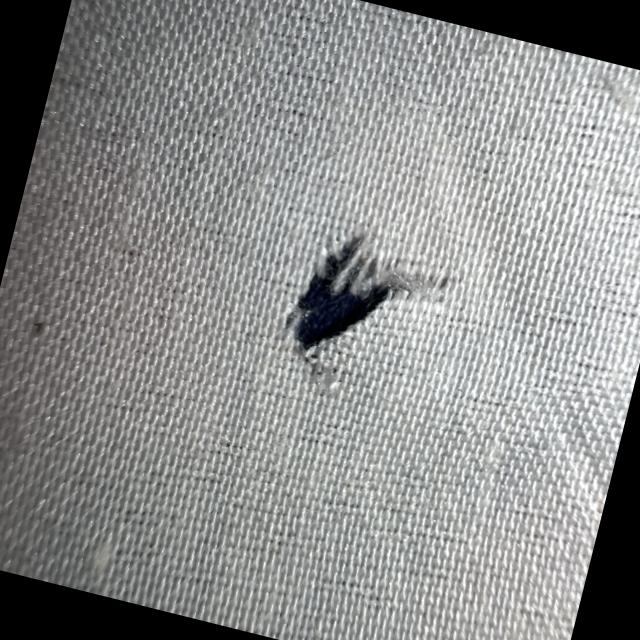hole: (275, 214, 412, 386)
